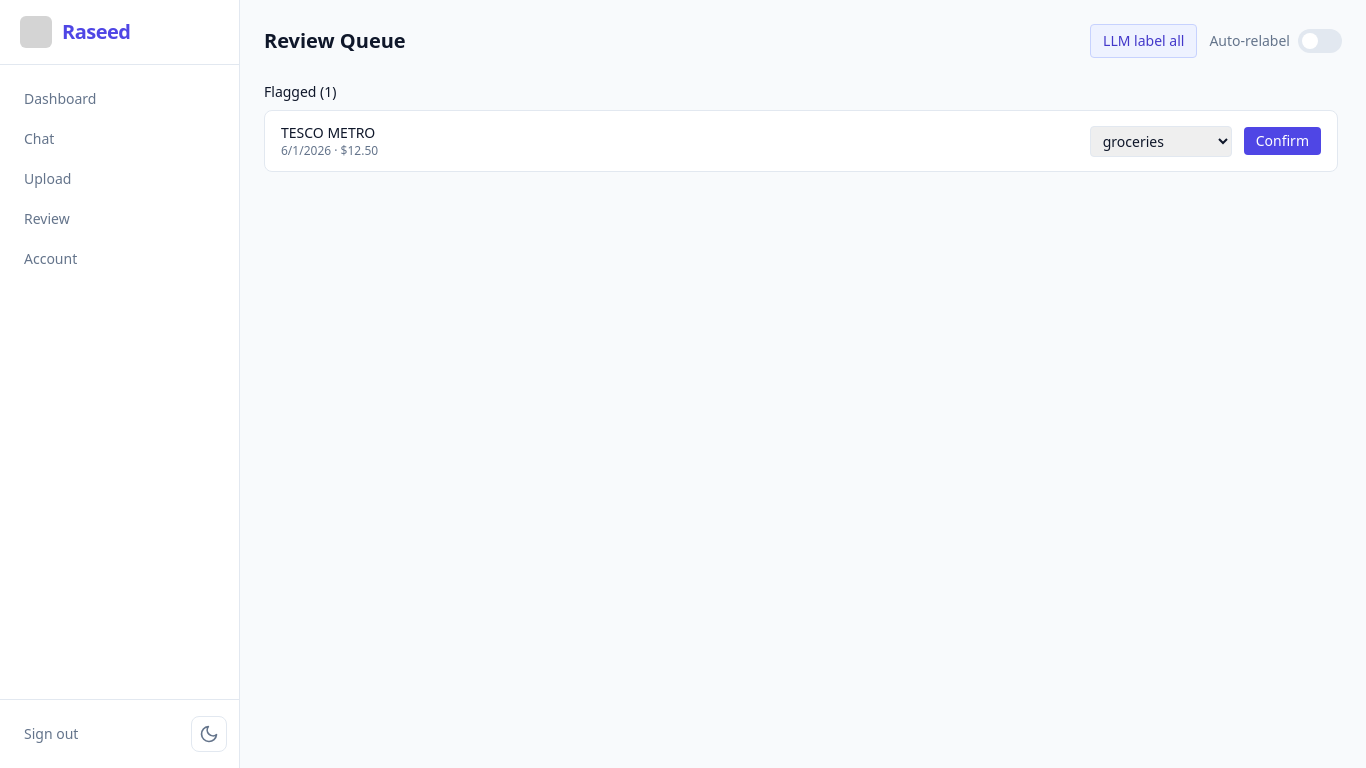
Test: Review page › removes the row from the queue after confirm (UI reflects persisted state)
The width and height of the screenshot is (1366, 768).
Click the button with test id "review-row-confirm" at (1282,141), box [1244,127,1321,155]
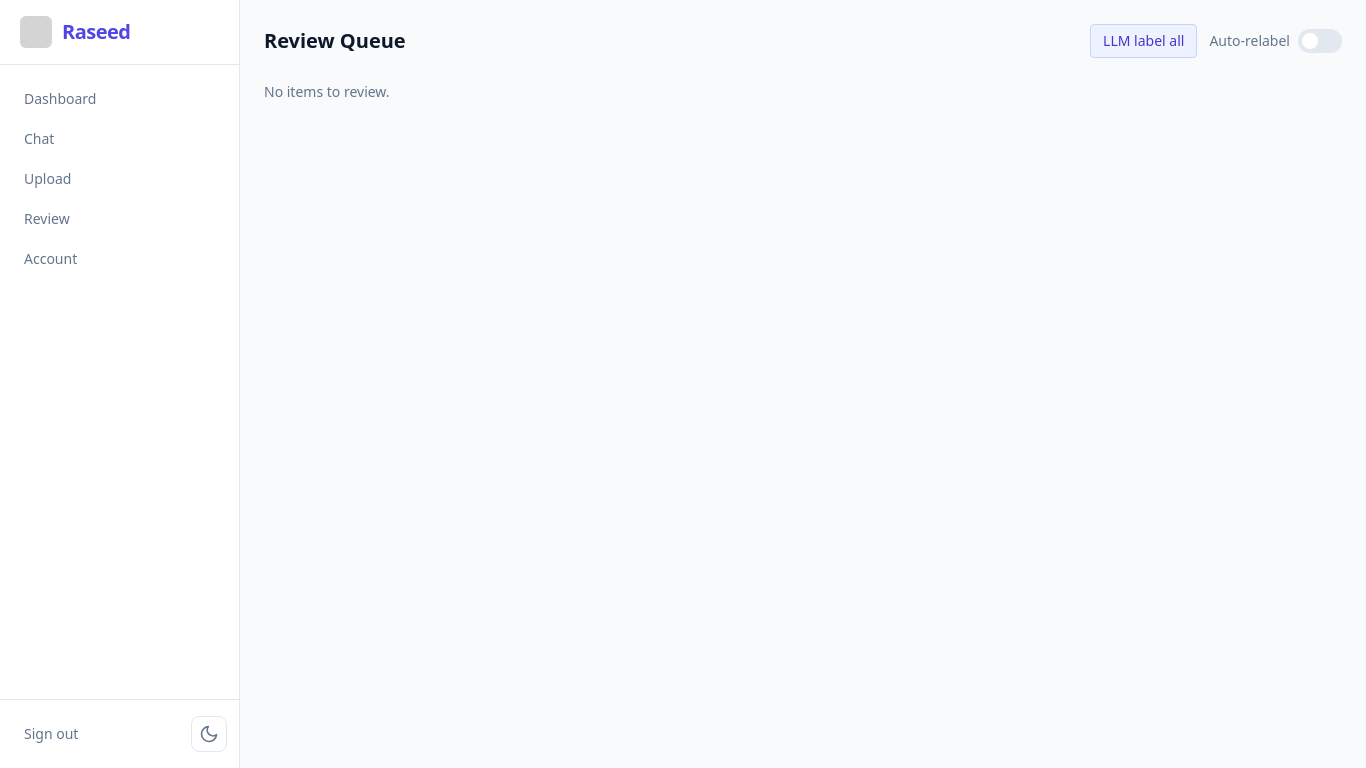
Result: the text "No items to review." is shown at [264,82,390,101]
